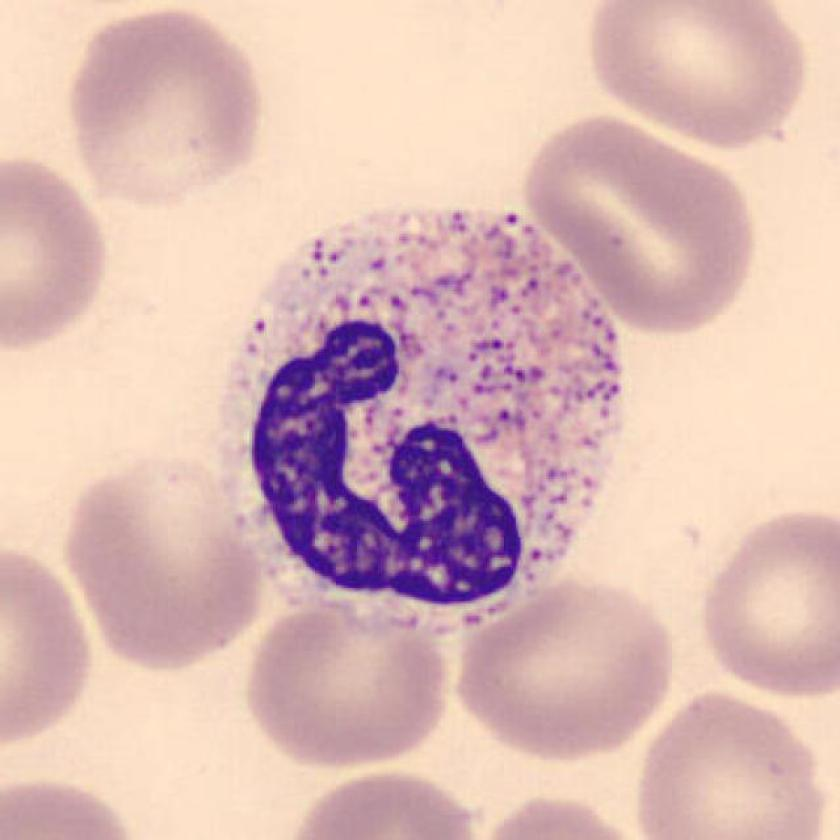neutrophil: (226, 213, 623, 633)
